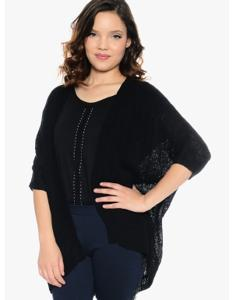S_cardigan sweater: (26, 78, 203, 288)
